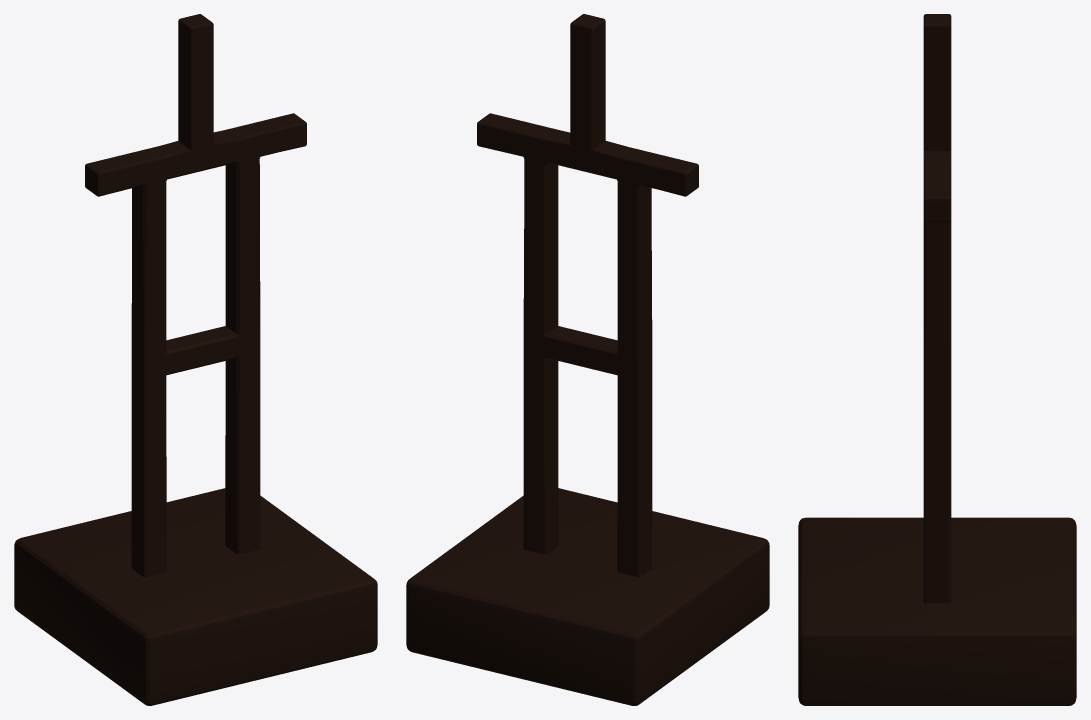
The model's file is ArmourStand002.FBX.
The picture shows the model from 3 angles, left to right: view 1: azimuth 30°, elevation 25°; view 2: azimuth 150°, elevation 25°; view 3: azimuth 270°, elevation 25°; orthographic projection. The views are drawn at different scales.
Visible parts, largest first — view 1: ArmourStand; view 2: ArmourStand; view 3: ArmourStand.
Boxes of the visible parts, x1,y1,x2,y2 form: ArmourStand: (14,14,377,705); ArmourStand: (406,14,769,705); ArmourStand: (798,14,1076,705).
Bounding box in the file's own units: 10 × 25 × 10.
